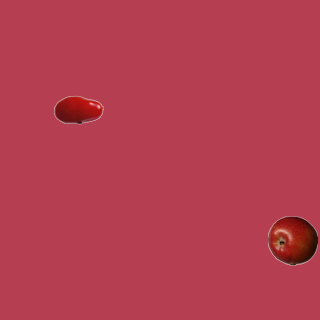Apple Braeburn: (267, 215, 317, 265)
Tomato 2: (53, 84, 103, 134)
